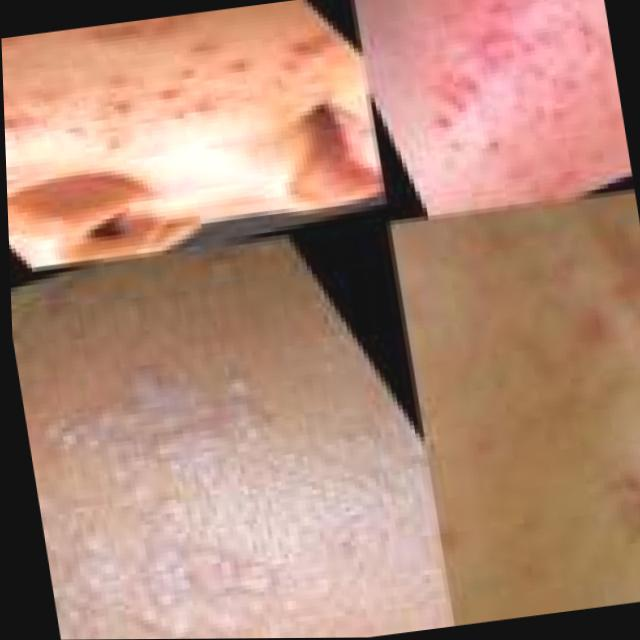cyst: (465, 27, 529, 74), (292, 24, 332, 62)
